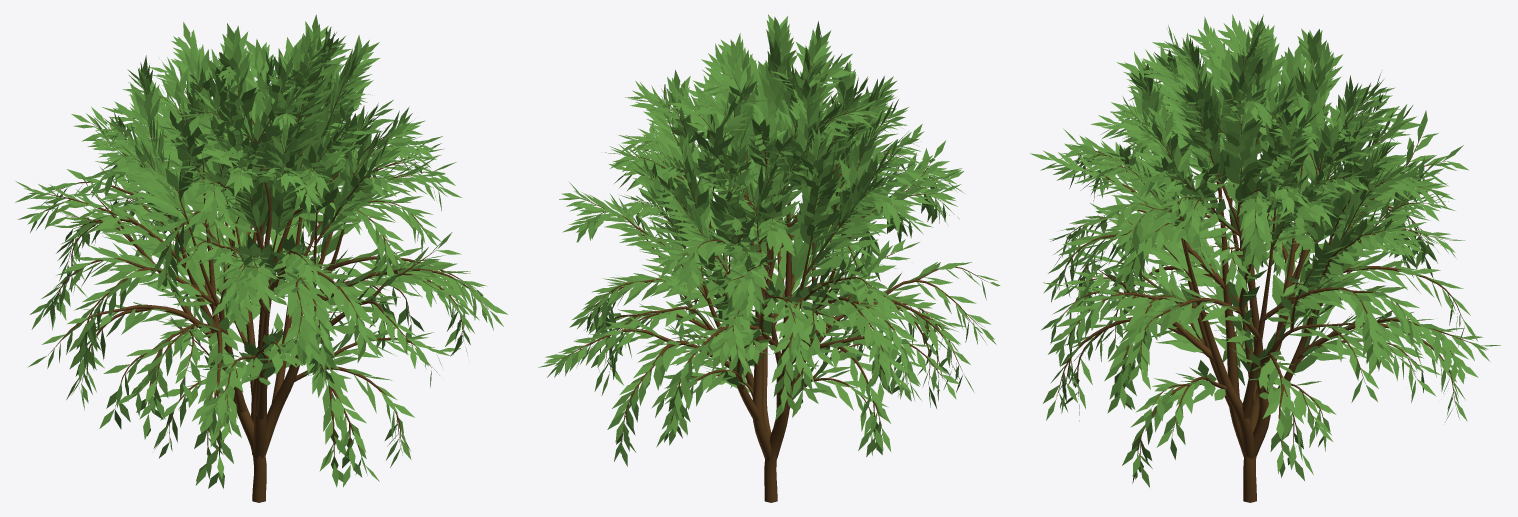
Rendered from tree.fbx.
The picture shows the model from 3 angles, left to right: view 1: azimuth 30°, elevation 25°; view 2: azimuth 150°, elevation 25°; view 3: azimuth 270°, elevation 25°; orthographic projection. The views are drawn at different scales.
Parts seen in each view (by area): view 1: leaves, tree; view 2: leaves, tree; view 3: leaves, tree.
Boxes of the visible parts, x1,y1,x2,y2 form: leaves: [15, 14, 507, 488]; tree: [40, 56, 488, 502]; leaves: [538, 14, 1000, 466]; tree: [562, 63, 988, 502]; leaves: [1029, 14, 1500, 487]; tree: [1056, 40, 1472, 502].
Size of the model in its own units: 579 by 677 by 611.
